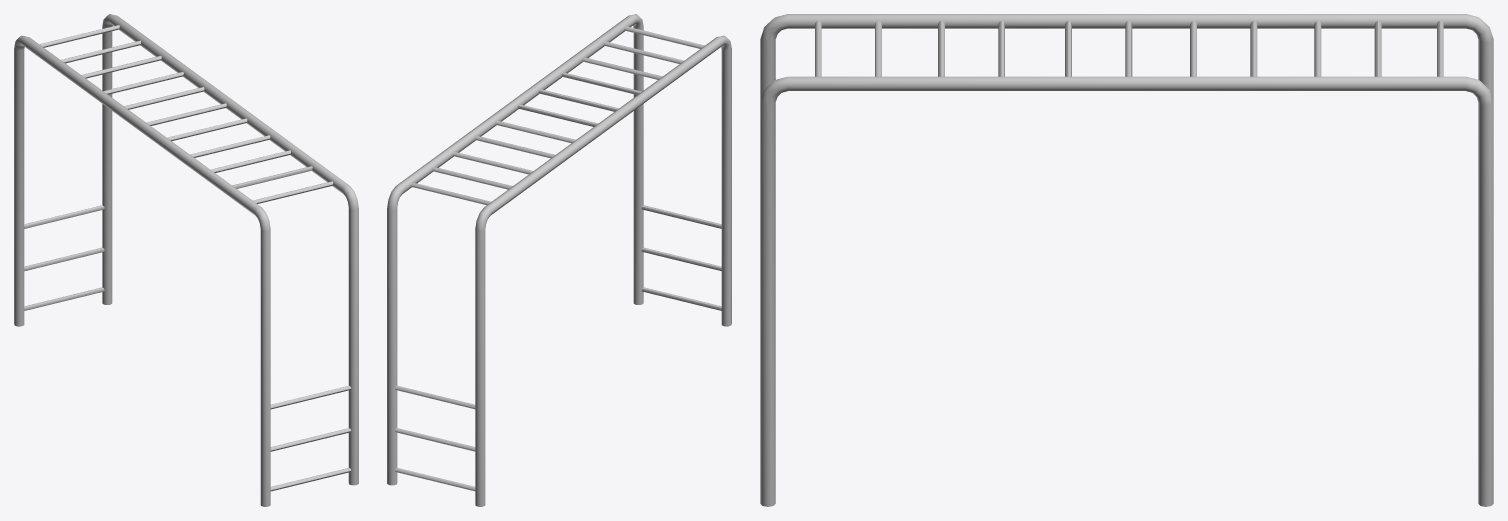
Rendered from SM_Playground_04.fbx.
3 views of the same model, side by side, from view 1: azimuth 30°, elevation 25°; view 2: azimuth 150°, elevation 25°; view 3: azimuth 270°, elevation 25° (orthographic). The views are drawn at different scales.
Visible parts, largest first — view 1: SM_Playground_04; view 2: SM_Playground_04; view 3: SM_Playground_04.
Boxes of the visible parts, box(x1,y1,x2,y2) form: SM_Playground_04: box(14, 14, 358, 506); SM_Playground_04: box(387, 14, 731, 506); SM_Playground_04: box(760, 14, 1493, 506).
Bounding box in the file's own units: 80.84 × 233 × 362.
